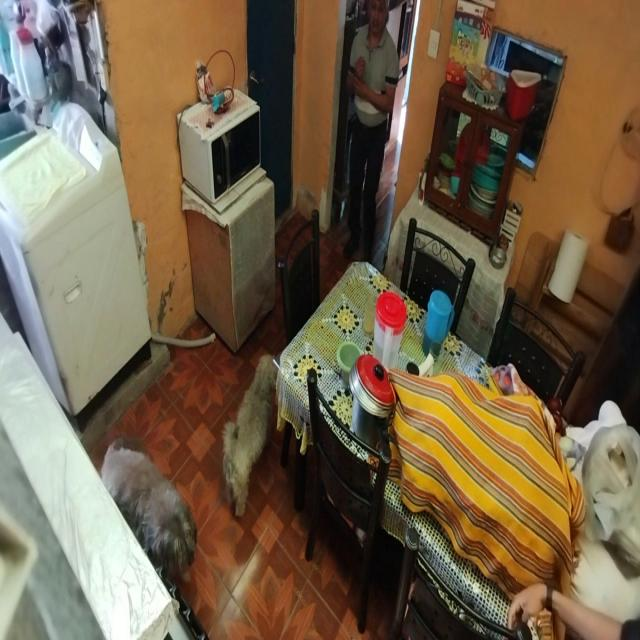adult: (343, 0, 399, 265)
